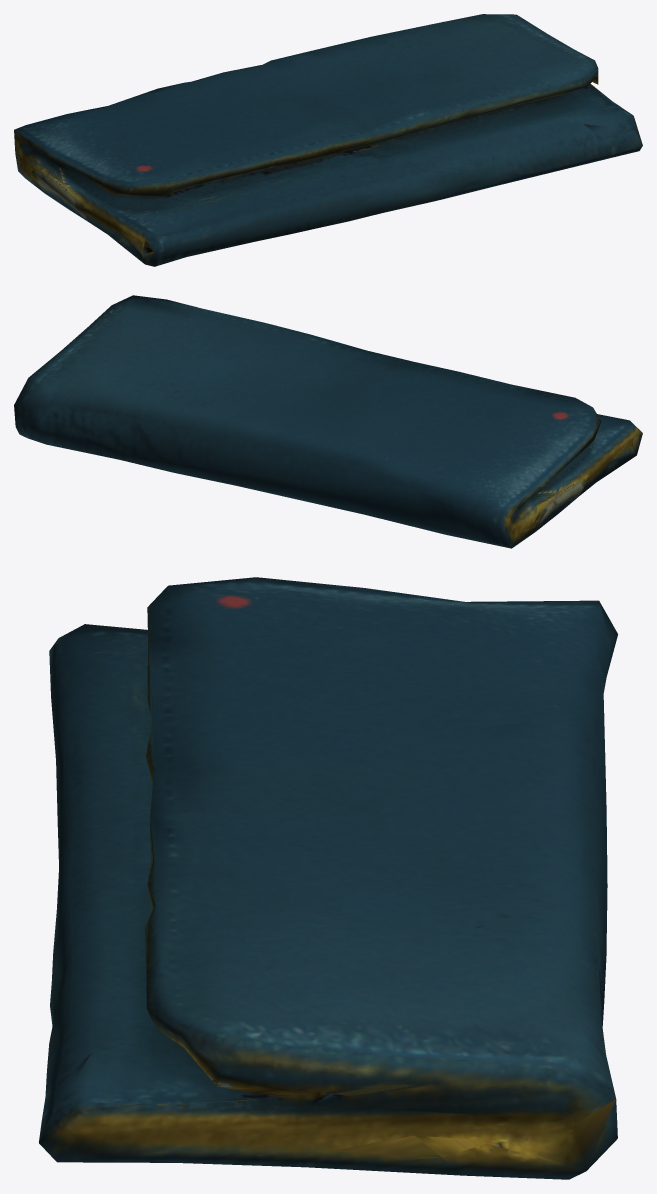
The model's file is wallet.dae.
3 views of the same model, one above another, from view 1: azimuth 30°, elevation 25°; view 2: azimuth 150°, elevation 25°; view 3: azimuth 270°, elevation 25° (orthographic). The views are drawn at different scales.
Parts seen in each view (by area): view 1: _2_Wallet_001; view 2: _2_Wallet_001; view 3: _2_Wallet_001.
Boxes of the visible parts, x1,y1,x2,y2 form: _2_Wallet_001: [14, 14, 642, 266]; _2_Wallet_001: [14, 295, 642, 548]; _2_Wallet_001: [39, 577, 617, 1179].
Bounding box in the file's own units: 0.1975 × 0.0981 × 0.029.
Materials: 1 (1 with a texture image).
